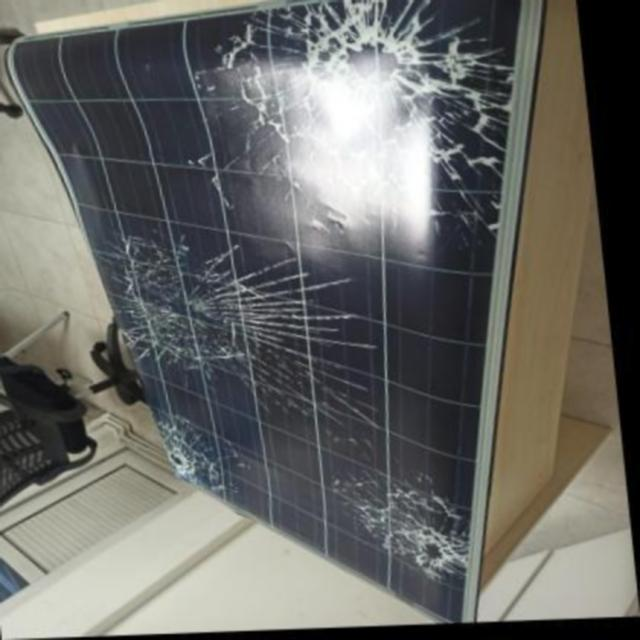cracked: (57, 0, 524, 608)
